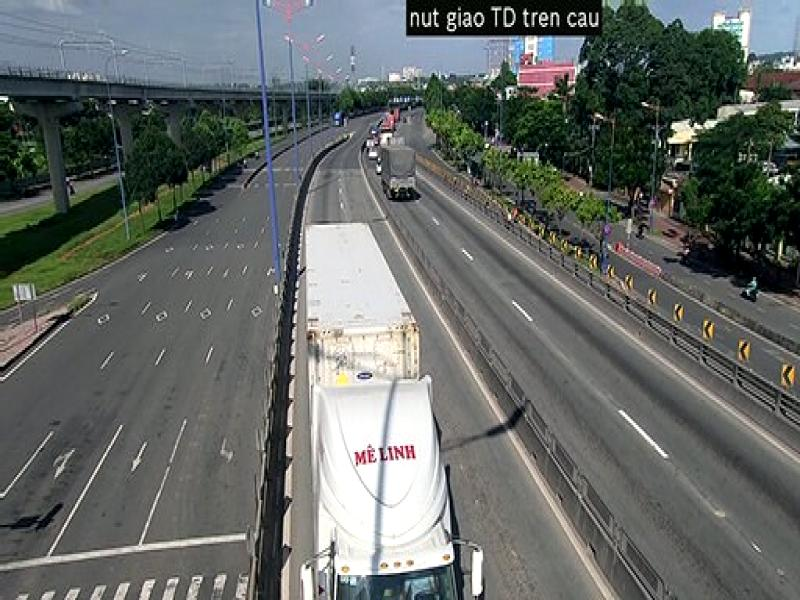truck: (303, 219, 486, 600)
